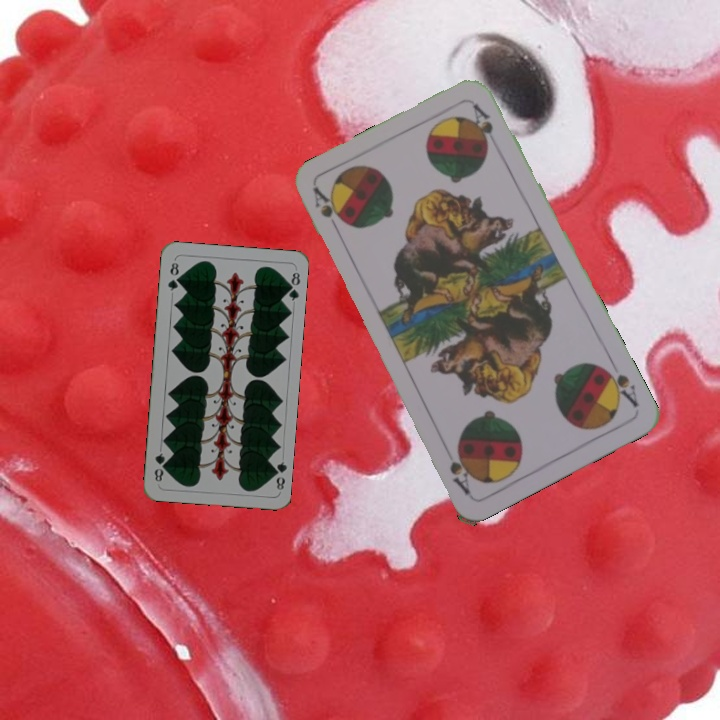G8: (268, 457, 289, 492), (163, 258, 182, 293)
SA: (597, 356, 641, 410), (309, 183, 344, 239)
